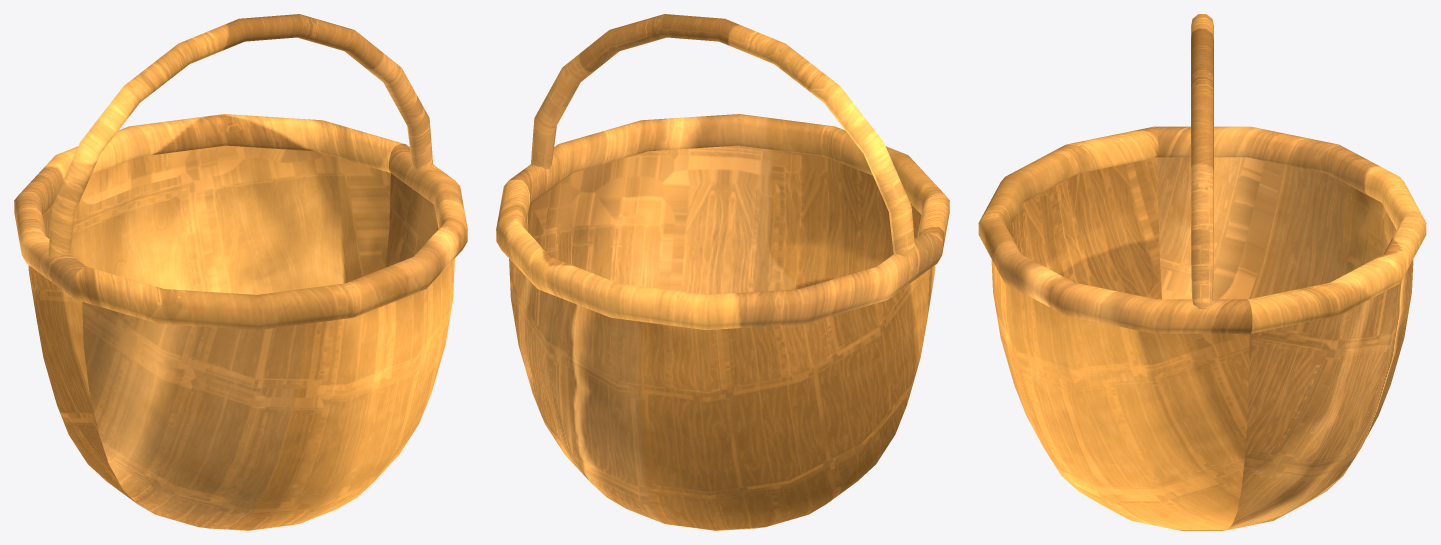
The model's file is SM_Stylized_Basket.fbx.
3 views of the same model, side by side, from view 1: azimuth 30°, elevation 25°; view 2: azimuth 150°, elevation 25°; view 3: azimuth 270°, elevation 25° (orthographic). The views are drawn at different scales.
Parts seen in each view (by area): view 1: SM_Stylized_Basket_LOD0; view 2: SM_Stylized_Basket_LOD0; view 3: SM_Stylized_Basket_LOD0.
Boxes of the visible parts, left/top/right/bottom form: SM_Stylized_Basket_LOD0: left=14, top=14, right=467, bottom=530; SM_Stylized_Basket_LOD0: left=496, top=14, right=949, bottom=530; SM_Stylized_Basket_LOD0: left=978, top=14, right=1426, bottom=530.
Bounding box in the file's own units: 30.05 × 30.82 × 35.22.
